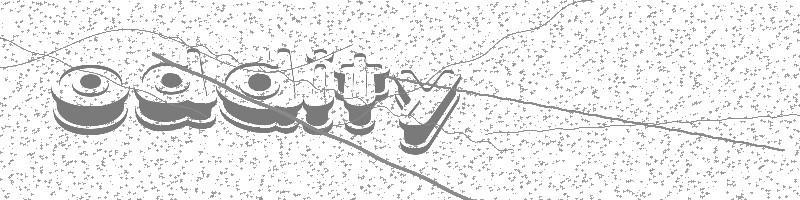d: (132, 47, 218, 132), (219, 46, 301, 135)
i: (302, 45, 336, 135)
o: (48, 62, 132, 139)
t: (330, 51, 393, 136)
y: (390, 67, 468, 157)
